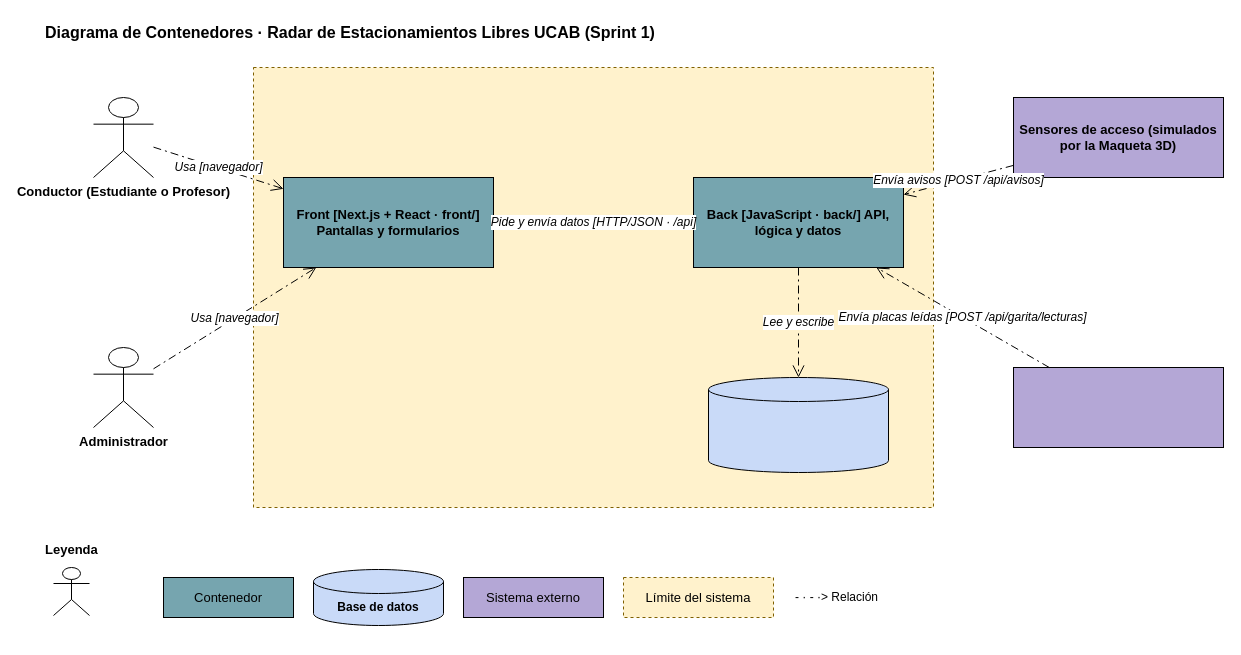
Image size: 1241x655. Some labels were removed from this diagram. Each missing label, with the box of its shape:
Base de datos [almacén en memoria, temporal]: (708, 376, 888, 472)
Lector de placas de la garita (simulado por la Maqueta 3D): (1012, 366, 1224, 448)
Persona: (52, 566, 90, 616)
Radar de Estacionamientos Libres UCAB [RadarEstacionamientos_code]: (252, 66, 934, 508)
